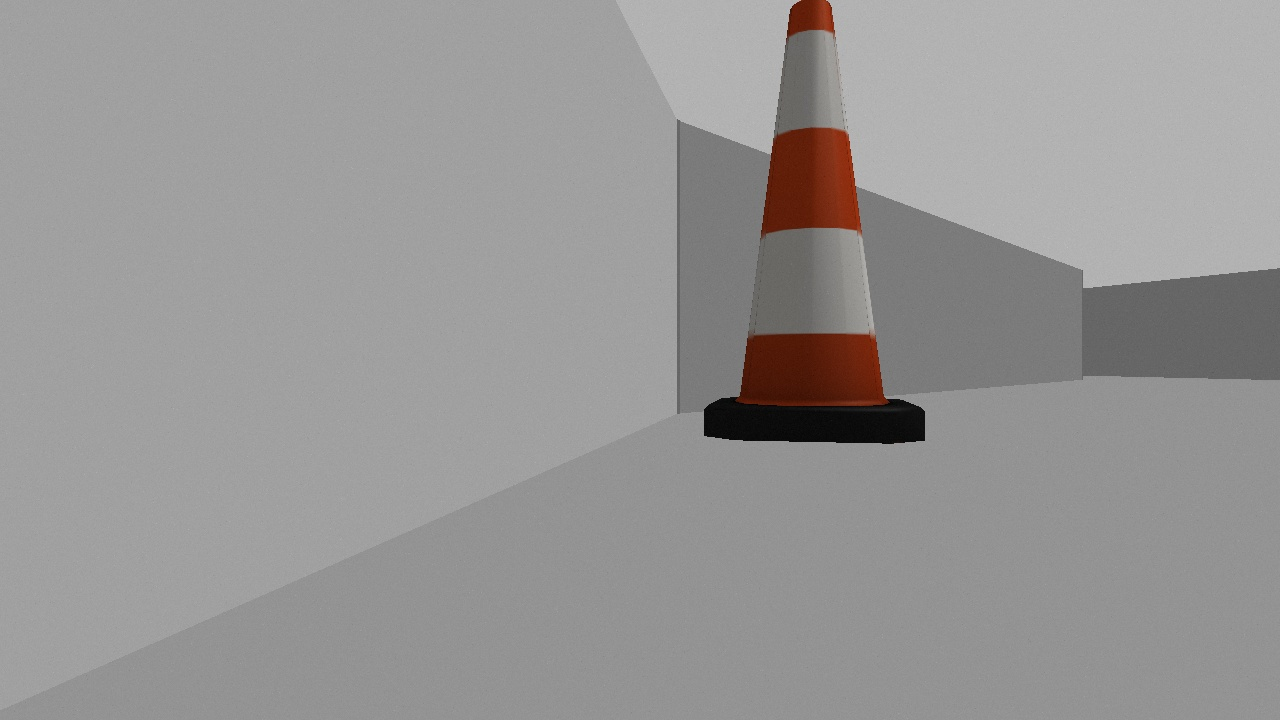barricade: (678, 1, 947, 456)
